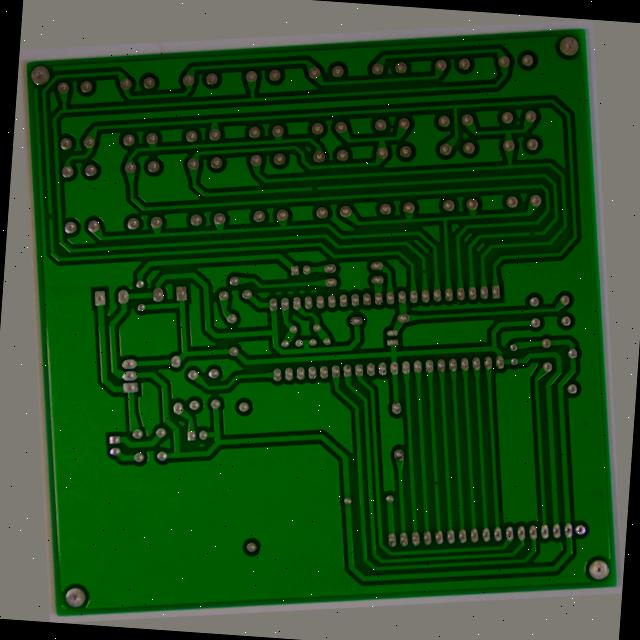open_circuit: (558, 244, 573, 258), (27, 160, 42, 174), (418, 507, 432, 520), (323, 167, 337, 180), (432, 273, 448, 284)
